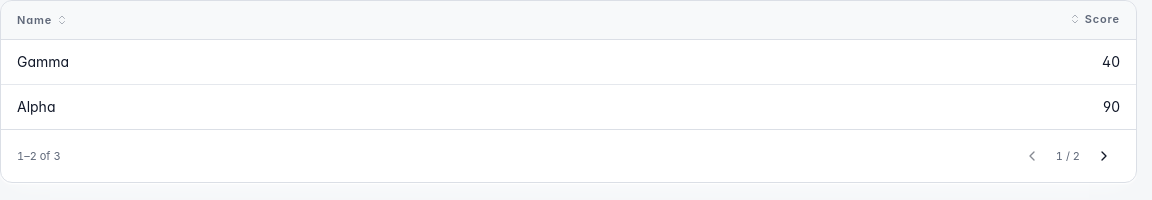
Test: DataTable › paginates and reports the visible range
Expected: the text "1–2 of 3" is shown, left=17, top=148, right=60, bottom=164
Click the button named "Next page" at (1104,156), box left=1088, top=140, right=1120, bottom=172
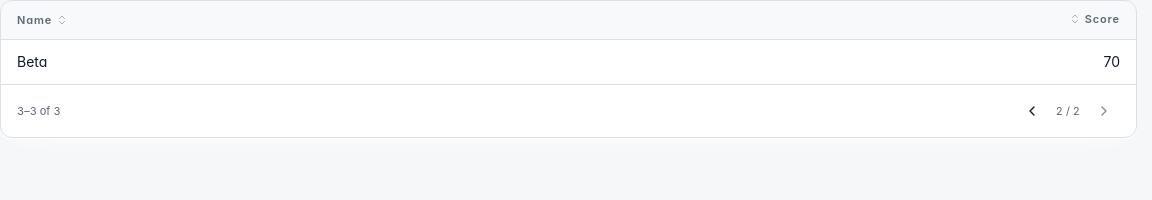
Expected: the text "3–3 of 3" is shown, left=17, top=103, right=60, bottom=119
Click the button named "Previous page" at (1032,111), box left=1016, top=95, right=1048, bottom=127
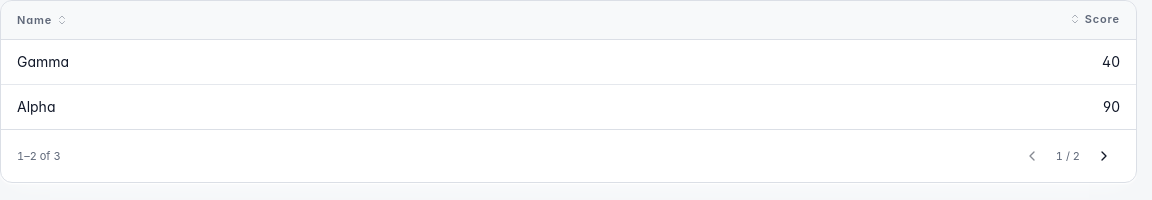
Expected: the text "1–2 of 3" is shown, left=17, top=148, right=60, bottom=164
